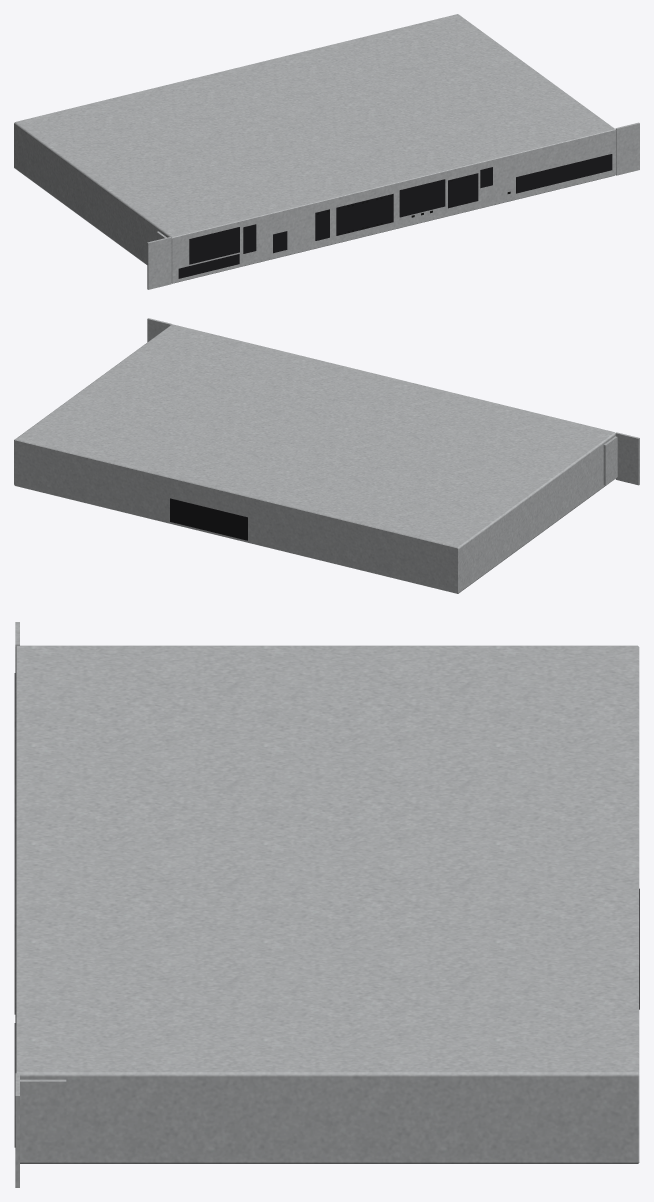
Rendered from FPR1120-NGFW-K9.far.glb.
The picture shows the model from 3 angles, top to bottom: view 1: azimuth 30°, elevation 25°; view 2: azimuth 150°, elevation 25°; view 3: azimuth 270°, elevation 25°; orthographic projection. The views are drawn at different scales.
Visible parts, largest first — view 1: Shell_far; view 2: Shell_far; view 3: Shell_far.
Boxes of the visible parts, x1,y1,x2,y2 form: Shell_far: [14, 14, 639, 289]; Shell_far: [14, 318, 639, 593]; Shell_far: [14, 622, 639, 1187].
Size of the model in its own units: 0.4826 by 0.0437 by 0.2695.
3 materials, 2 textured.
